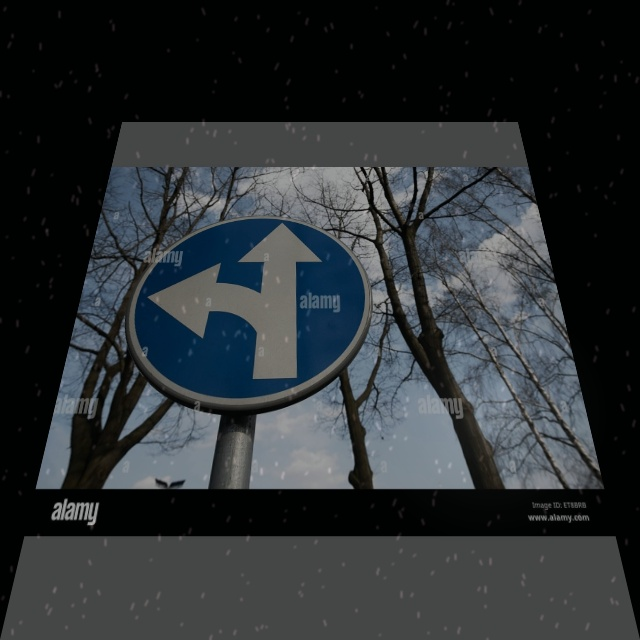Compulsory_Ahead_or_Turn_Left: (103, 212, 375, 407)
